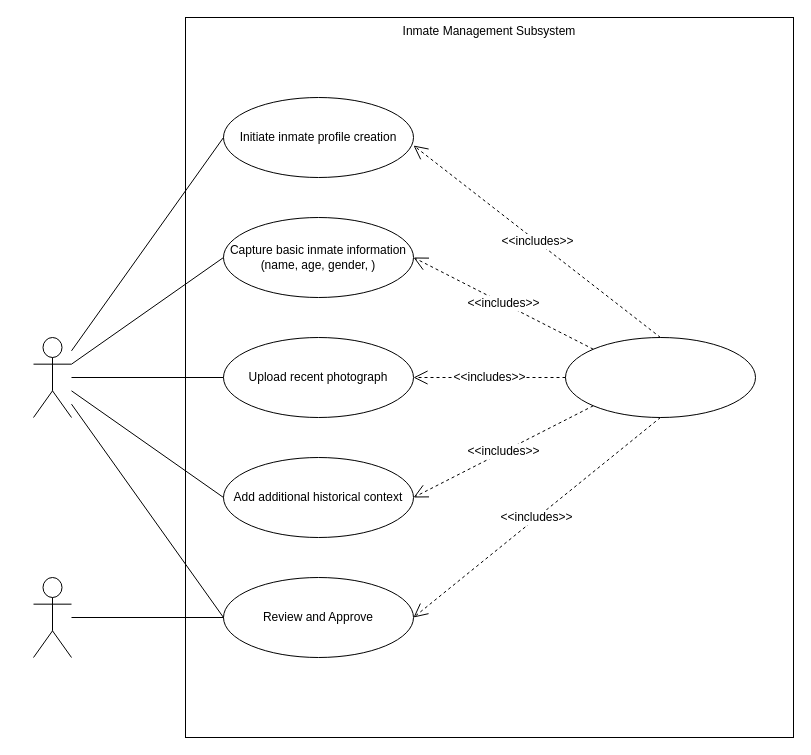
Some shapes in this 811 by 755 pixel diagram are drawn without their labels. Here are the shapes that lost their labels. From the top down, the centre of each, then its label:
At point (52, 377): "Correctional Officer".
At point (660, 377): "Create inmate profile".
At point (52, 617): "Supervisor / Administrator".
